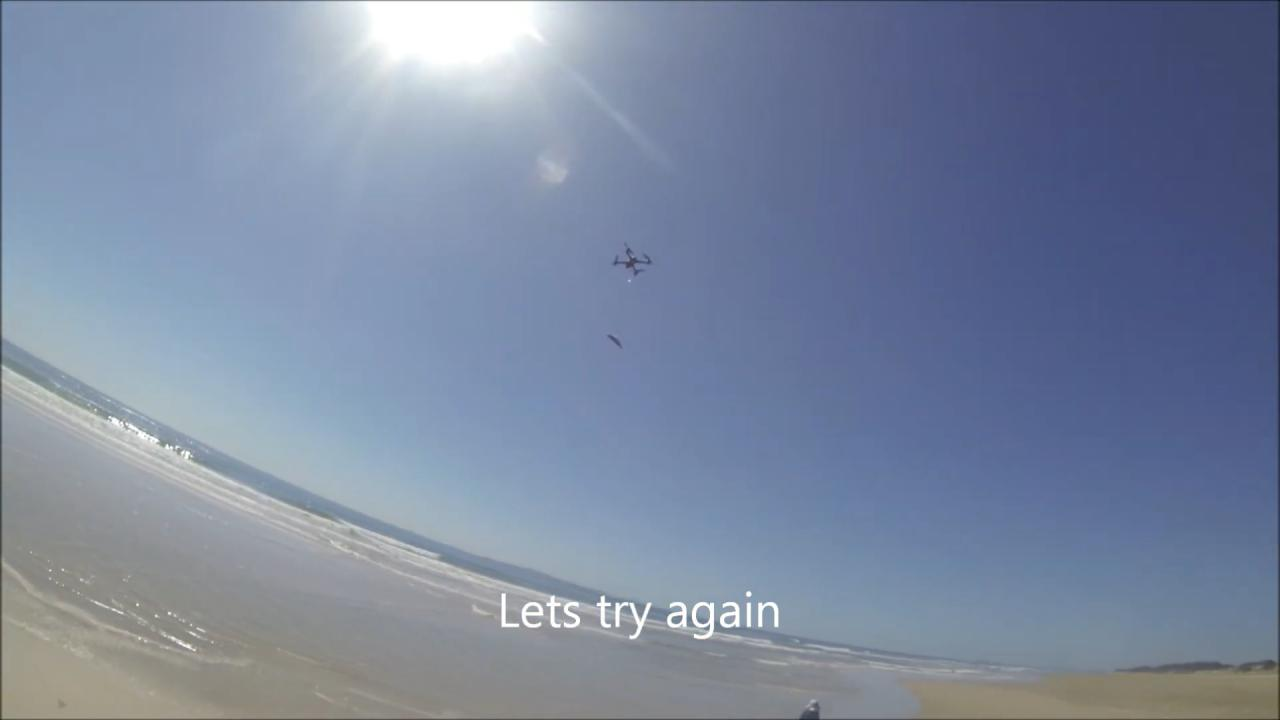Drone: (604, 237, 659, 284)
